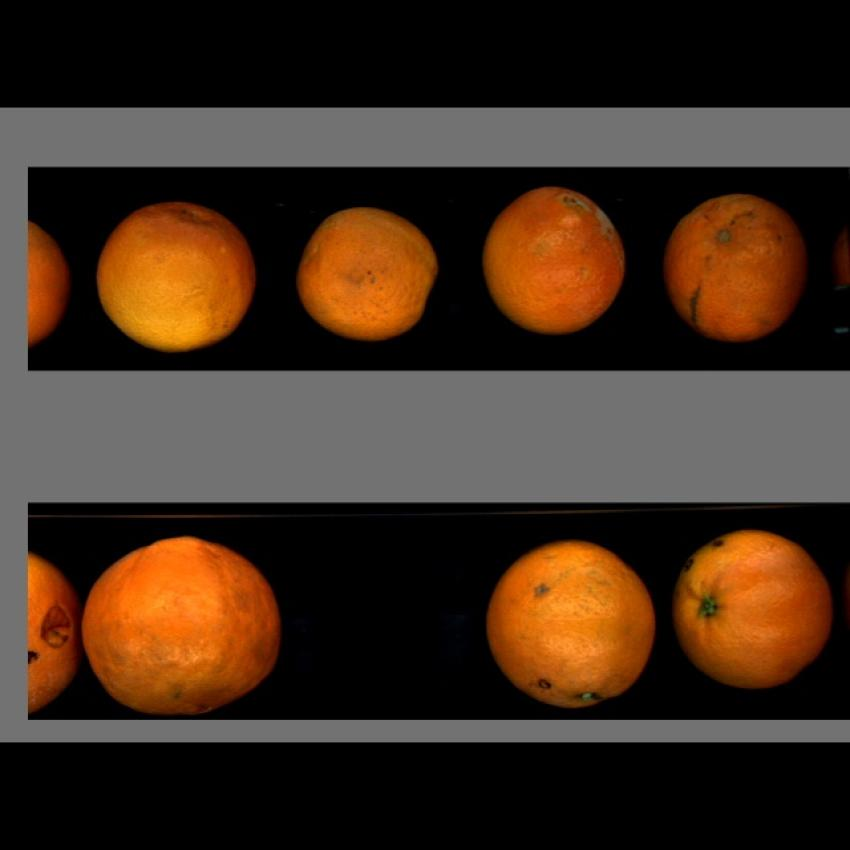Buen estado: (93, 193, 260, 349), (29, 212, 74, 352)
Mal estado: (82, 535, 293, 712), (480, 534, 654, 711), (671, 520, 837, 687), (481, 182, 635, 336), (662, 187, 810, 344), (297, 204, 441, 336), (30, 547, 80, 712)
